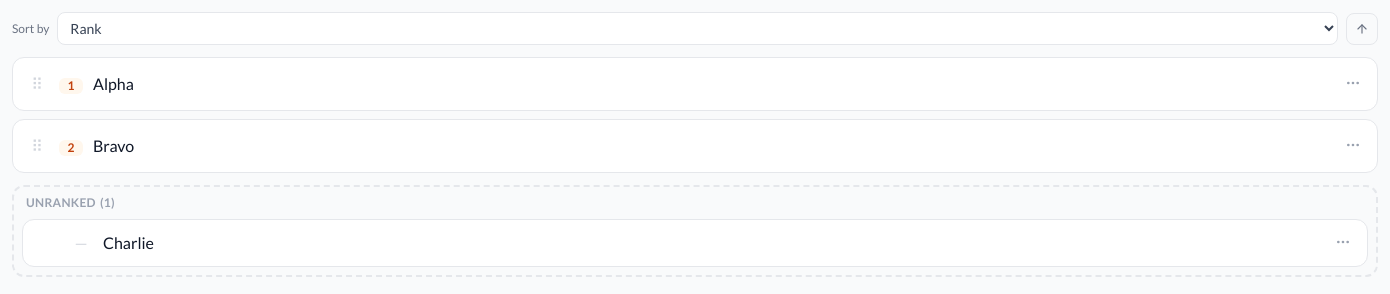
RankedListView layouts › hides drag handles when sorted by anything but rank
This screenshot has width=1390, height=294.
Expected: the button named "Drag to reorder Alpha" is shown, 23,64 -> 51,104
Select "Name" in the dropdown labelled "Sort by". click: coordinates (698, 28)
box: 57,12 -> 1338,45
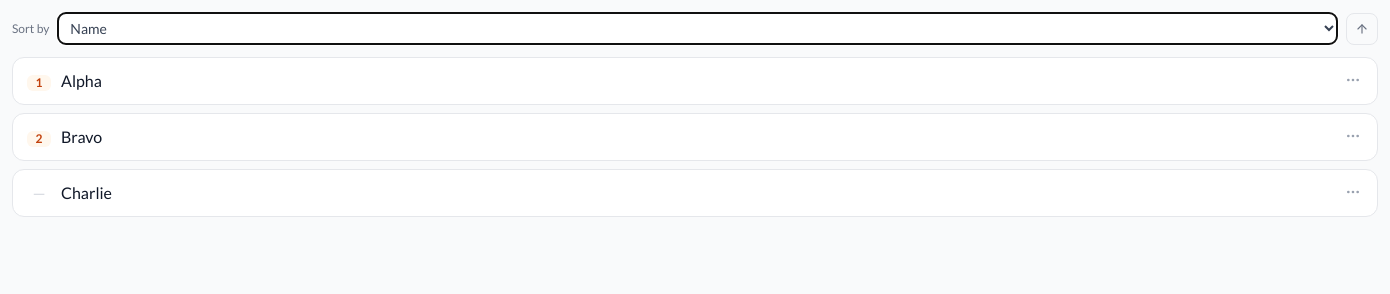
Expected: the element "Unranked" is gone
